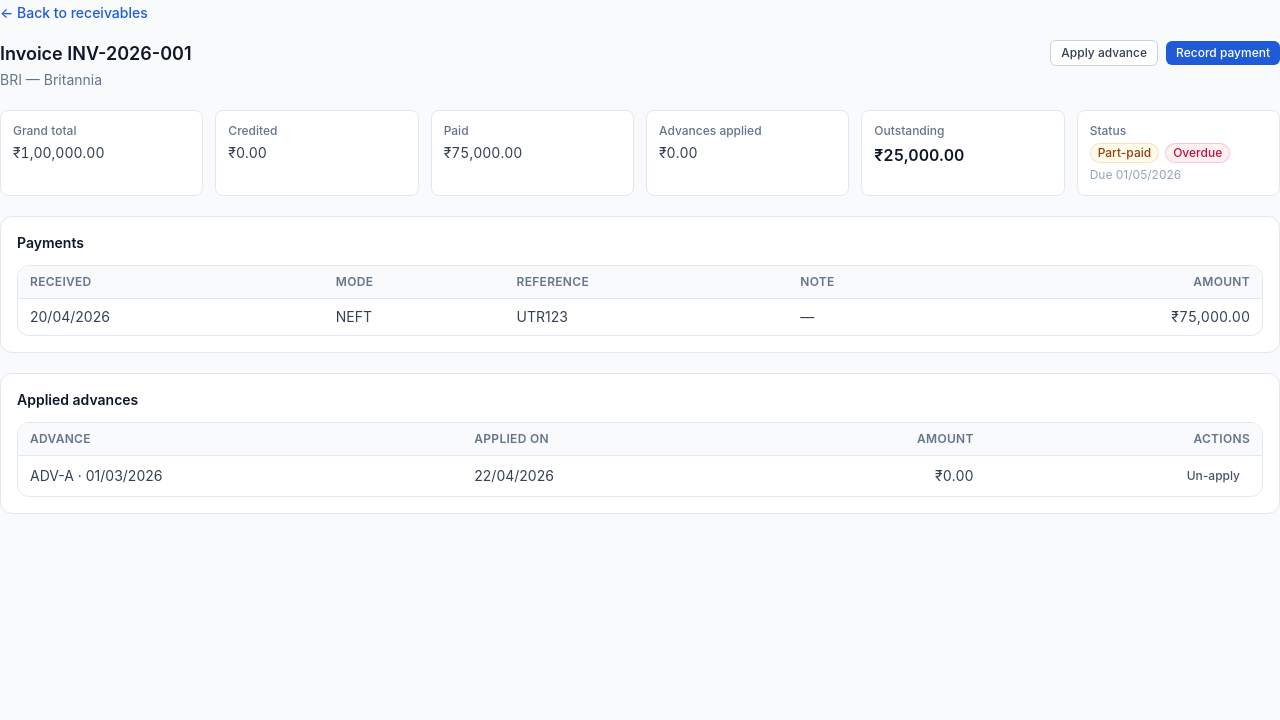
Test: Record payment › surfaces the server over-outstanding 422 honestly
Click the button "Record payment": (1223, 53) [1166,41,1279,65]
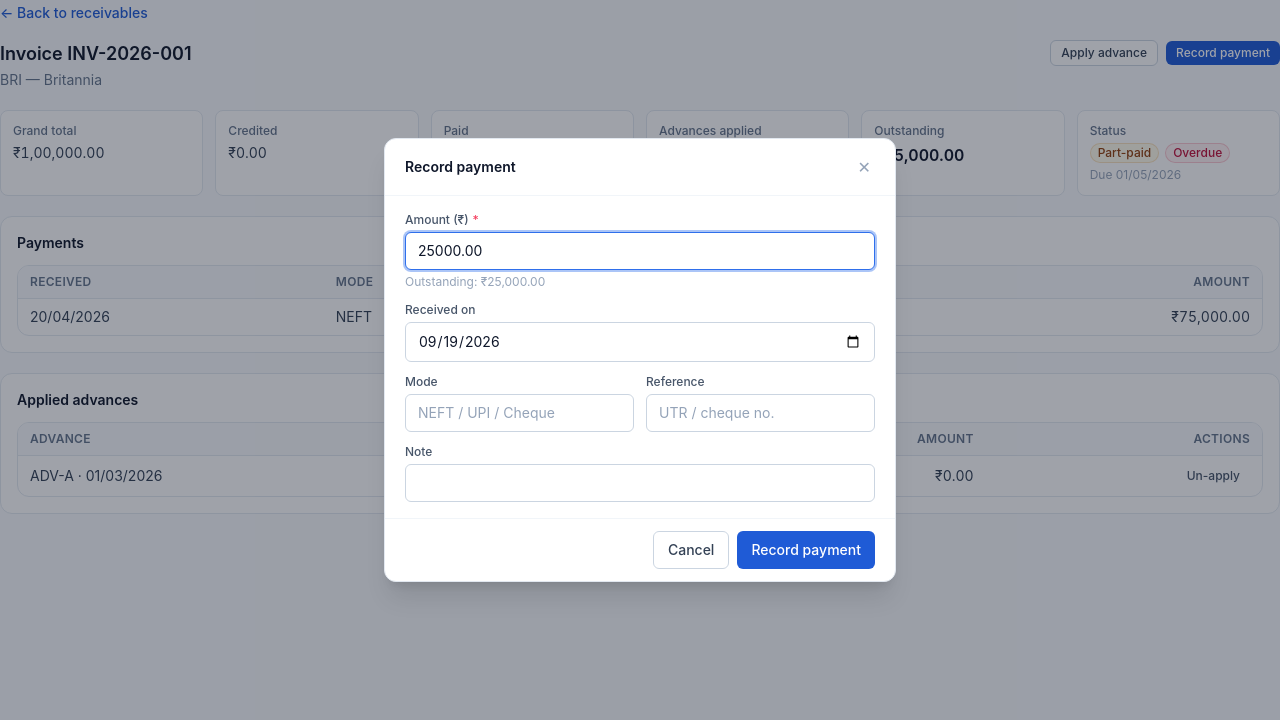
Replace the text in the field labelled "Amount (₹) * Outstanding: ₹25,000.00" with "9999999": (640, 251) [405,232,875,270]
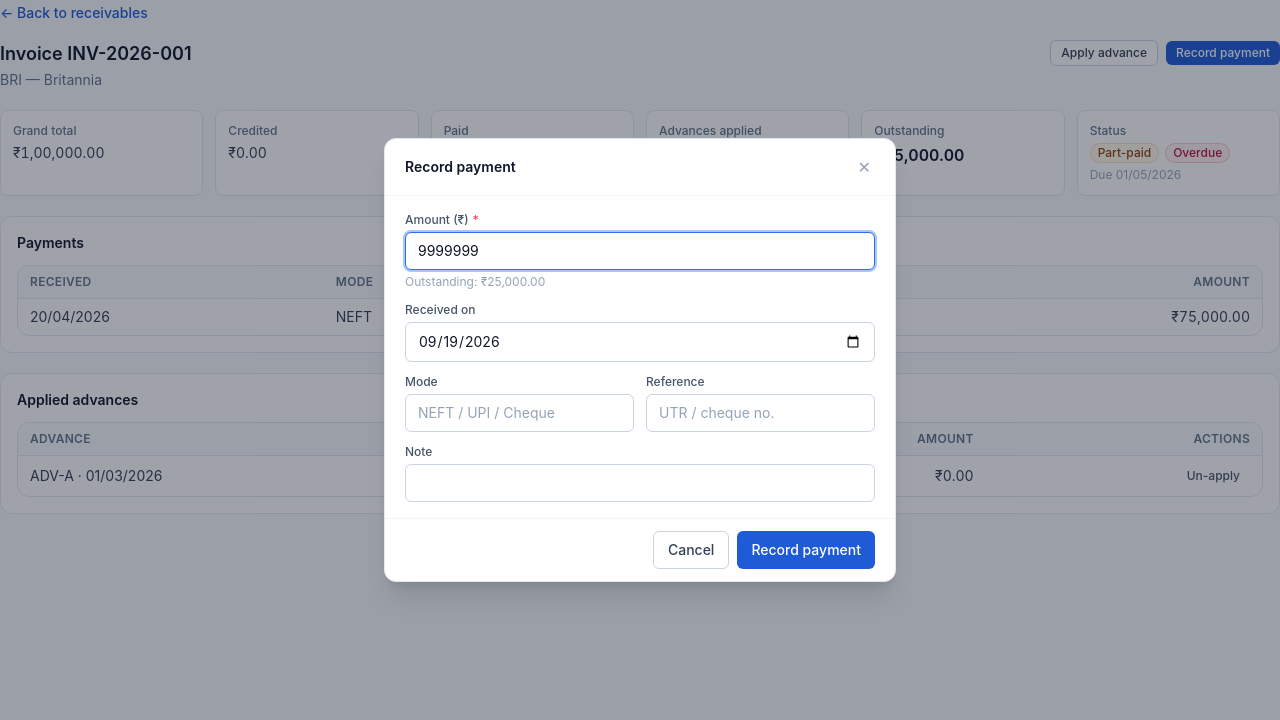
Click the button "Record payment": (806, 550) [737,531,875,569]
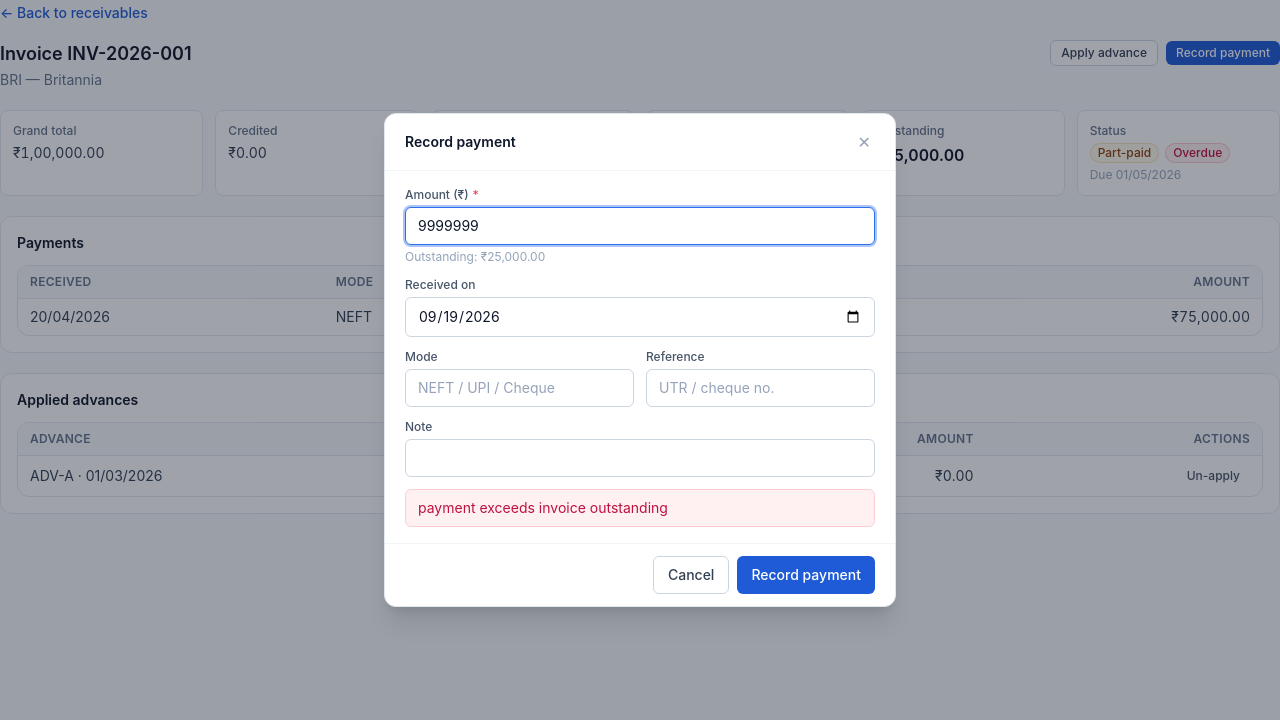
Result: the text "payment exceeds invoice outstanding" is shown at [405,489,875,527]
